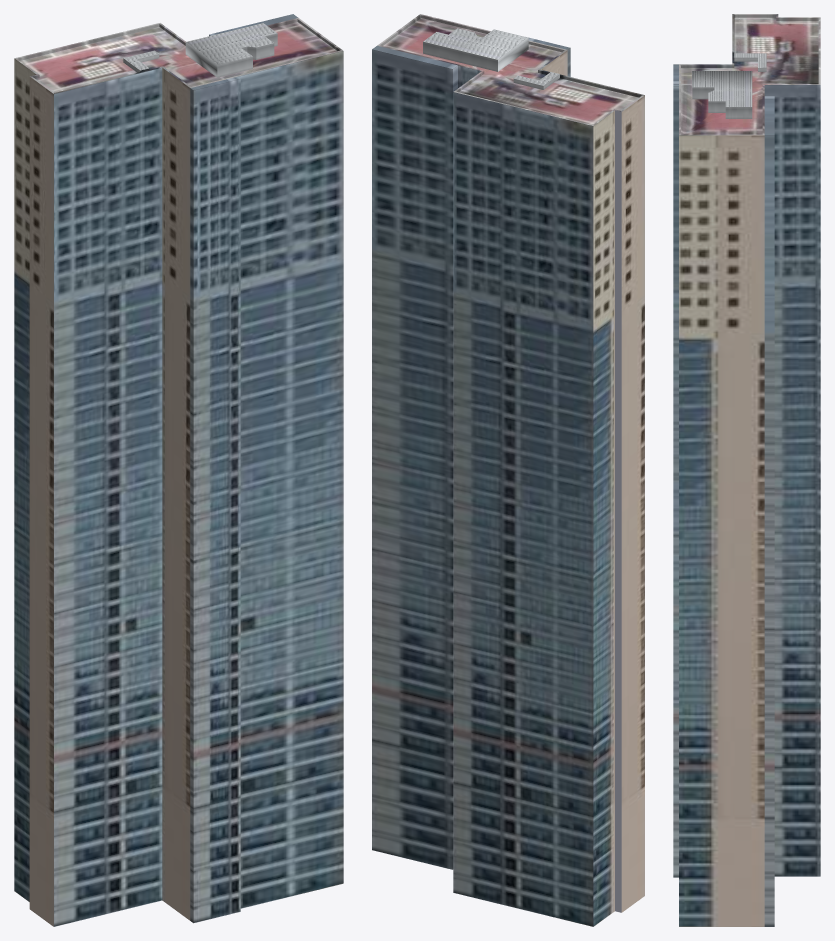
3 views of the same model, side by side, from view 1: azimuth 30°, elevation 25°; view 2: azimuth 150°, elevation 25°; view 3: azimuth 270°, elevation 25° (orthographic). The views are drawn at different scales.
Visible parts, largest first — view 1: HN451_Vinhomes_D_capitale_1; view 2: HN451_Vinhomes_D_capitale_1; view 3: HN451_Vinhomes_D_capitale_1.
Part boxes in pixels (left/top/right/bottom): HN451_Vinhomes_D_capitale_1: left=14, top=14, right=343, bottom=926; HN451_Vinhomes_D_capitale_1: left=372, top=14, right=644, bottom=926; HN451_Vinhomes_D_capitale_1: left=673, top=14, right=820, bottom=926.
Bounding box in the file's own units: 63.22 × 195 × 32.49.
Materials: 1 (1 with a texture image).
